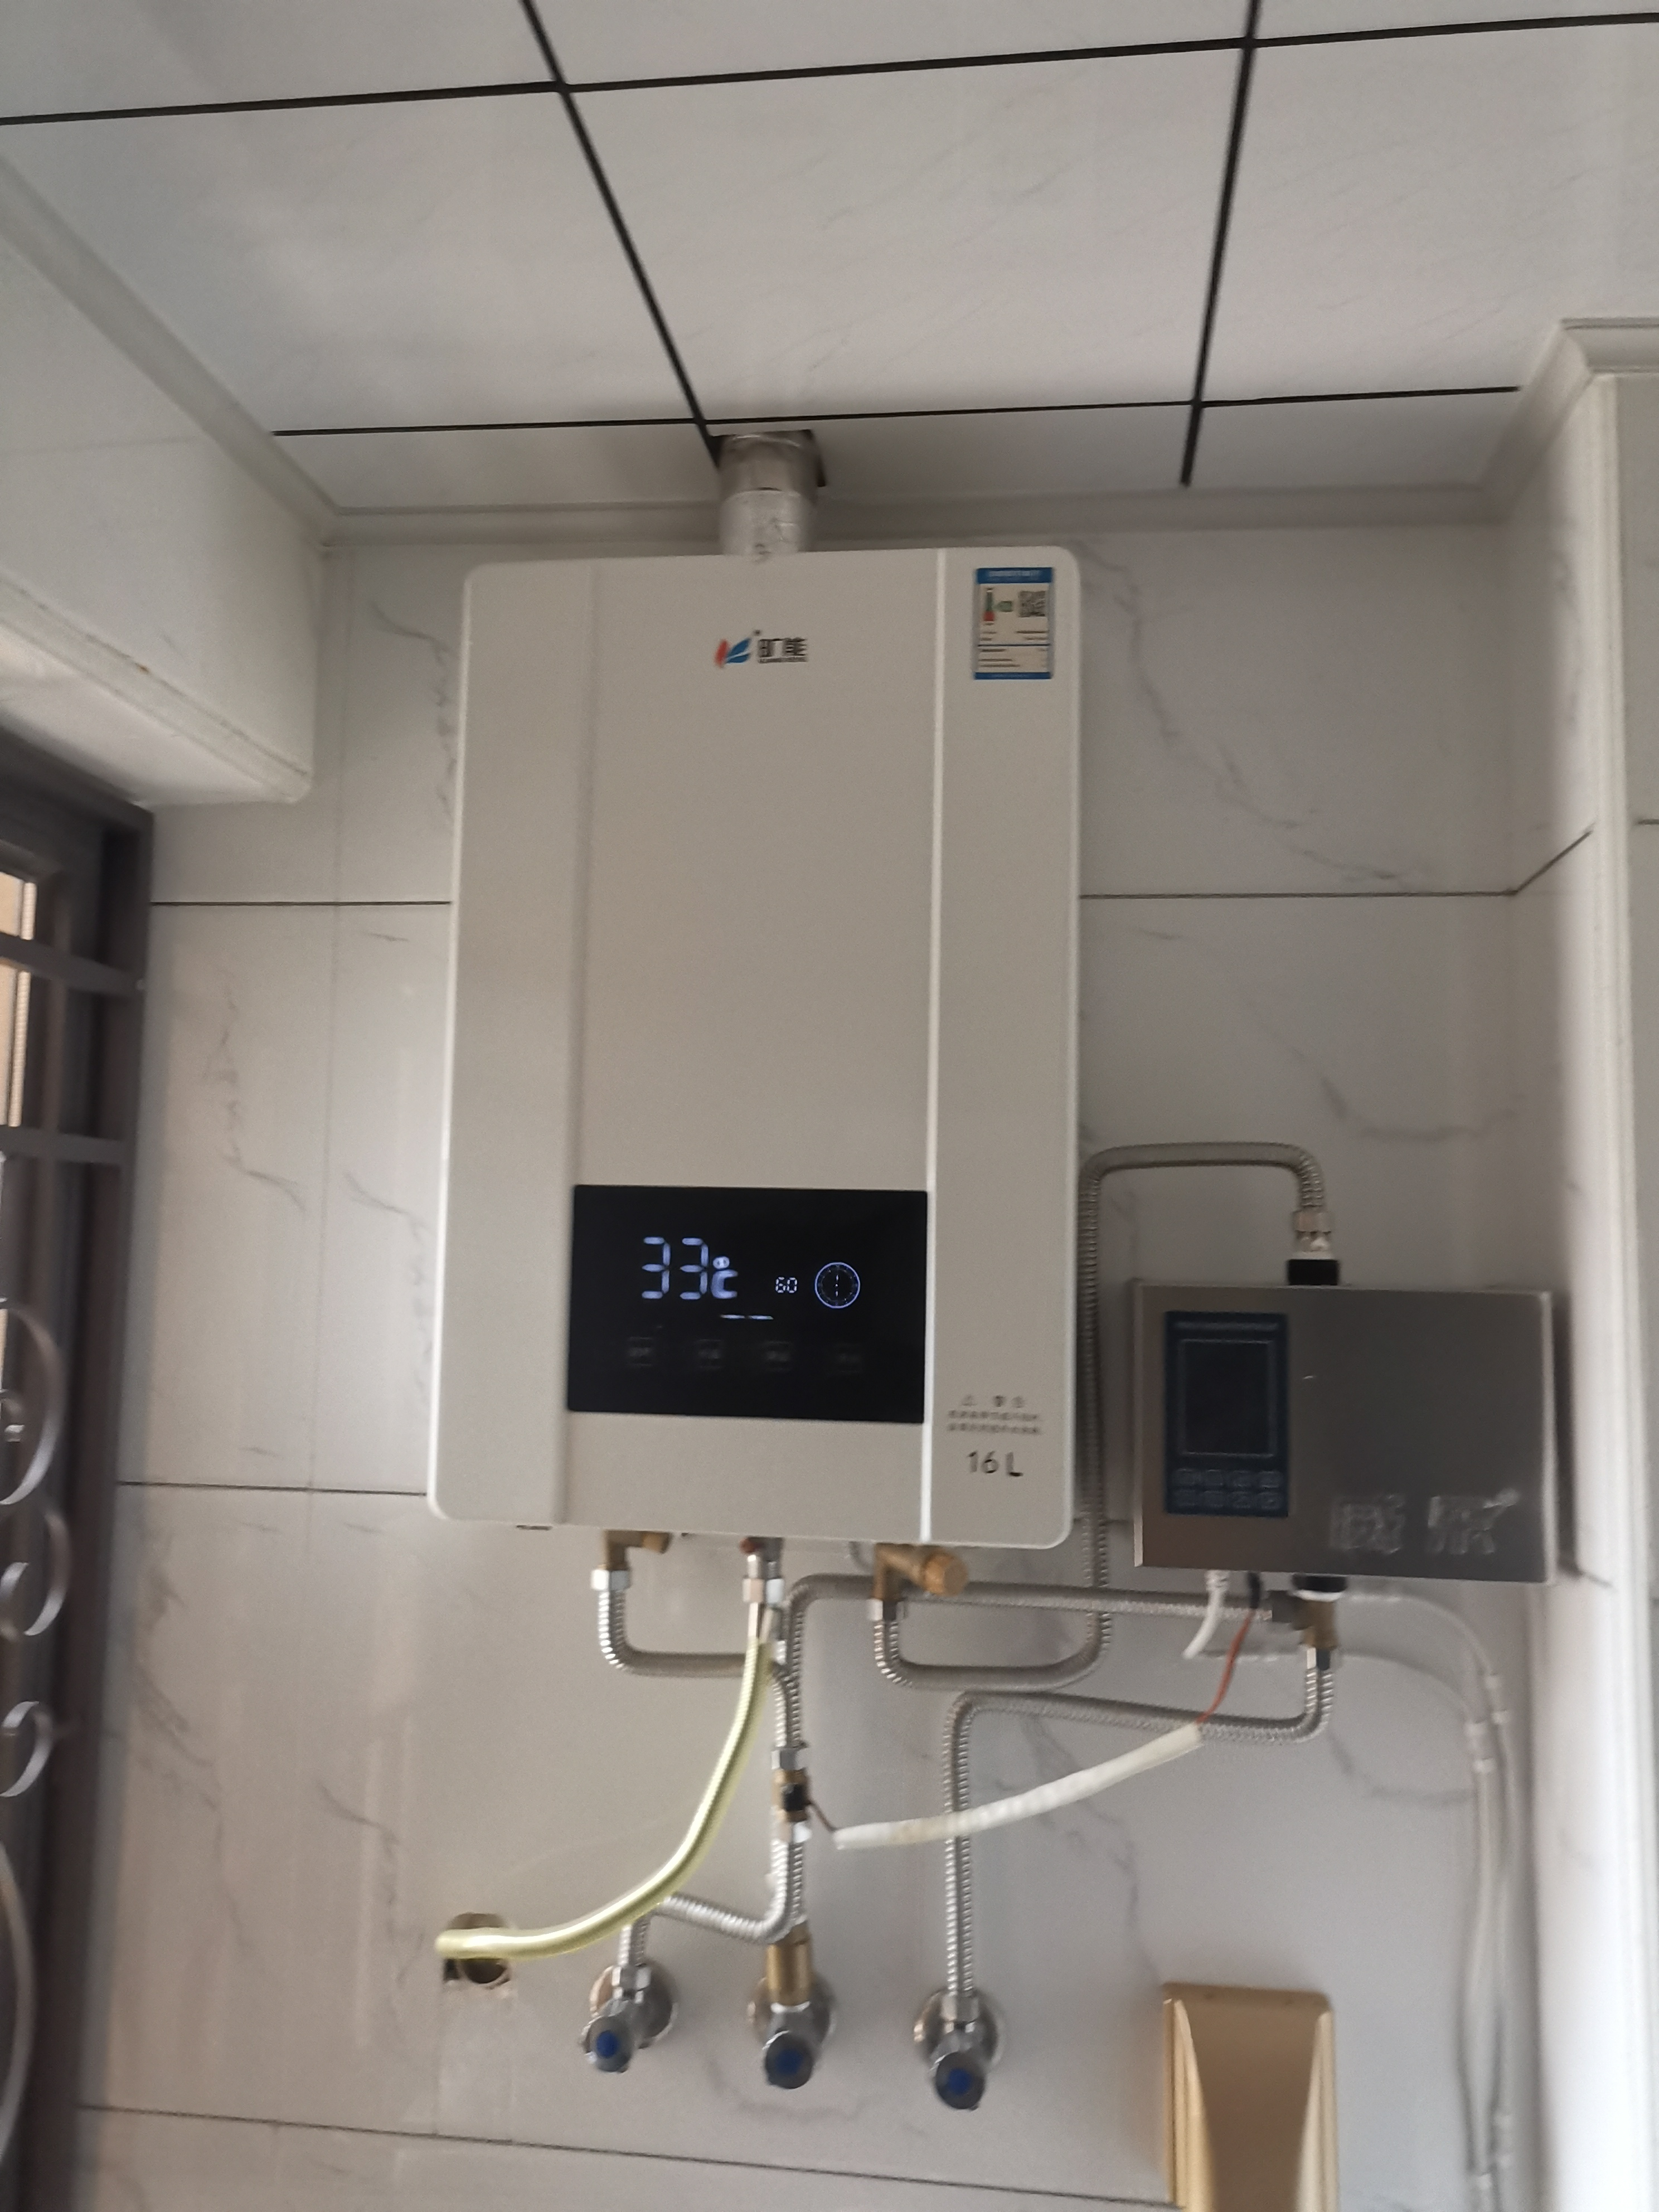loudou: (694, 620, 836, 679)
